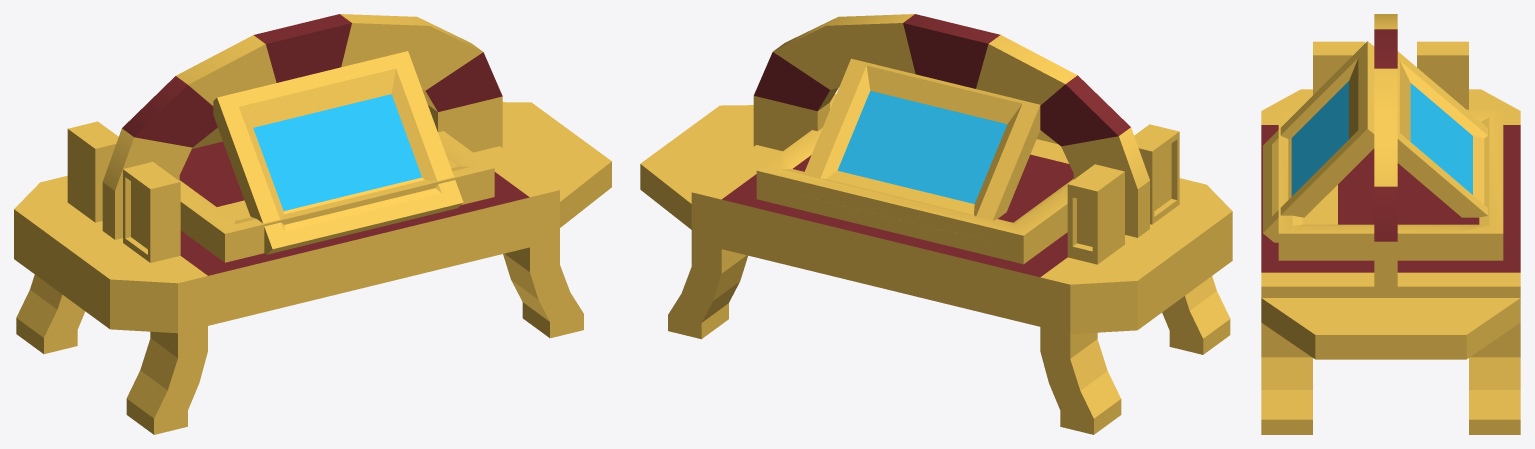
File: RealmwalkerDesk mesh.obj
3 renders of one model, left to right at view 1: azimuth 30°, elevation 25°; view 2: azimuth 150°, elevation 25°; view 3: azimuth 270°, elevation 25°, orthographic. The views are drawn at different scales.
Parts seen in each view (by area): view 1: RealmwalkerDesk mesh; view 2: RealmwalkerDesk mesh; view 3: RealmwalkerDesk mesh.
Boxes of the visible parts, <box> form: RealmwalkerDesk mesh: <box>14,14,611,434</box>; RealmwalkerDesk mesh: <box>640,14,1232,434</box>; RealmwalkerDesk mesh: <box>1261,14,1520,434</box>.
Size of the model in its own units: 5.34 by 3.05 by 2.5.
